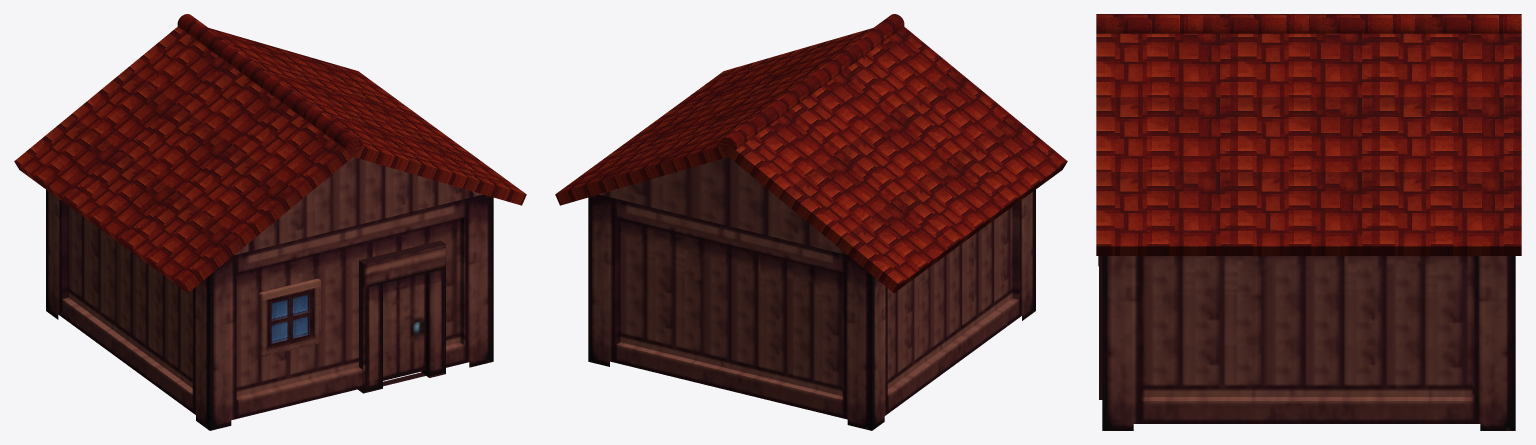
The model's file is small-house.glb.
The picture shows the model from 3 angles, left to right: view 1: azimuth 30°, elevation 25°; view 2: azimuth 150°, elevation 25°; view 3: azimuth 270°, elevation 25°; orthographic projection. The views are drawn at different scales.
Parts seen in each view (by area): view 1: Plane.005, Walls, door, Plane.002, Plane.004, Cylinder; view 2: Walls, Plane.005, Plane.001, Cylinder; view 3: Plane.005, Walls, Cylinder, door.
Boxes of the visible parts, x1,y1,x2,y2 form: Plane.005: [14, 26, 526, 292]; Walls: [46, 189, 493, 430]; door: [358, 240, 445, 393]; Plane.002: [235, 157, 482, 254]; Plane.004: [258, 278, 320, 357]; Cylinder: [177, 14, 362, 154]; Walls: [588, 189, 1035, 430]; Plane.005: [555, 26, 1067, 292]; Plane.001: [599, 157, 846, 254]; Cylinder: [719, 14, 904, 152]; Plane.005: [1096, 33, 1521, 255]; Walls: [1102, 256, 1515, 430]; Cylinder: [1096, 14, 1521, 33]; door: [1098, 256, 1102, 399].
Bounding box in the file's own units: 4.24 × 3.07 × 3.6.
Materials: 10 (10 with a texture image).
